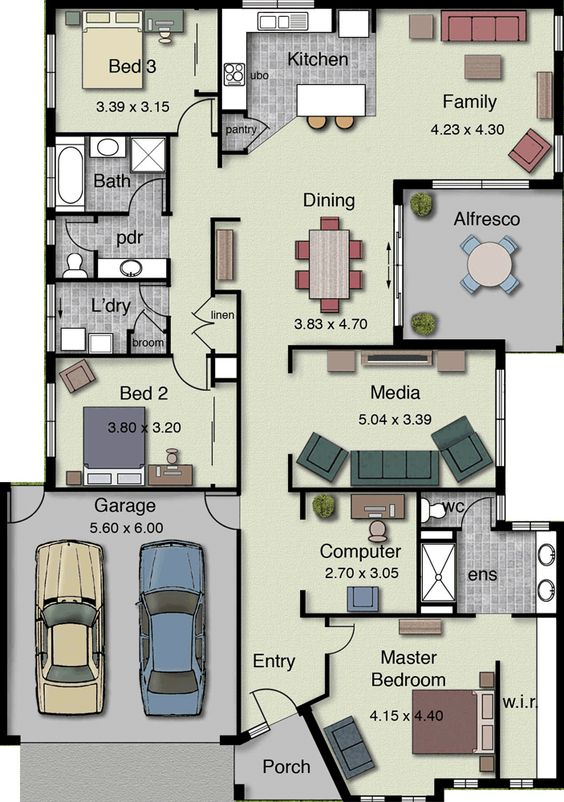door: (252, 682, 294, 723), (7, 488, 45, 527), (170, 357, 210, 394), (200, 492, 236, 531), (329, 623, 357, 655)
room: (370, 1, 564, 187), (287, 345, 505, 491), (43, 352, 240, 490), (45, 1, 222, 136), (43, 131, 170, 216)
window: (393, 202, 404, 326), (431, 177, 530, 190), (494, 367, 505, 465), (45, 381, 58, 458), (44, 34, 57, 108), (43, 282, 56, 352), (43, 144, 56, 207), (243, 1, 313, 8), (552, 134, 564, 172), (552, 14, 564, 52)
